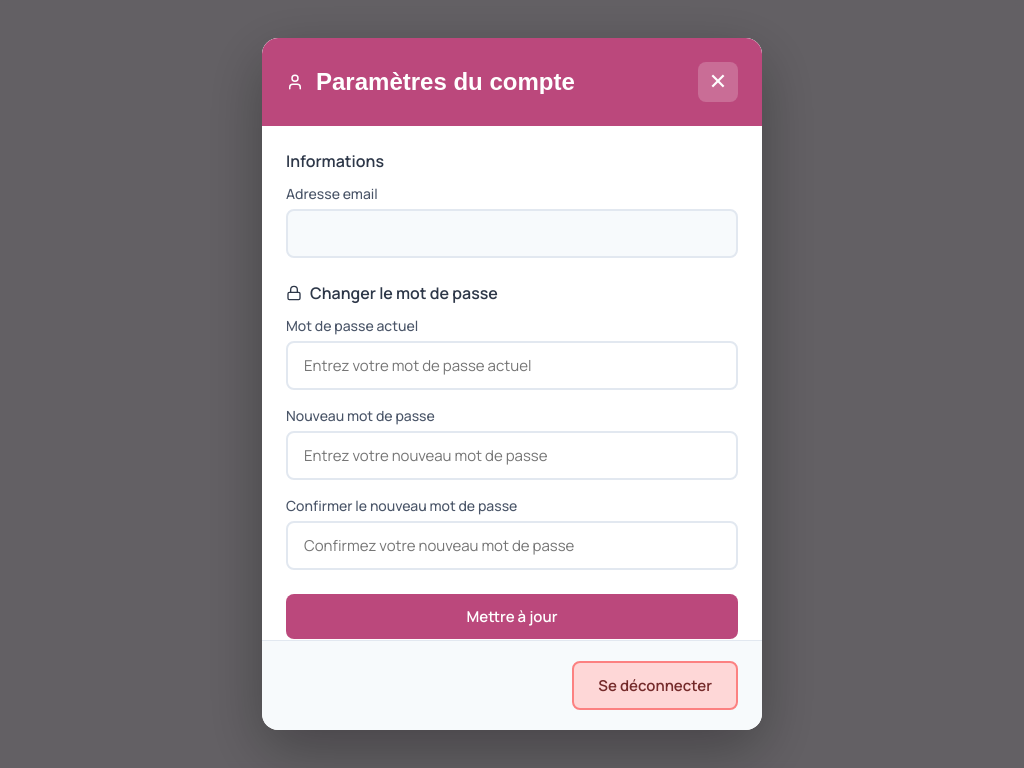
Test: AccountSettingsModal › affiche une erreur si les nouveaux mots de passe ne correspondent pas
Step 1. Type "oldpass" into the password field labelled "Mot de passe actuel" → (512, 366), box x1=286 y1=341 x2=738 y2=390
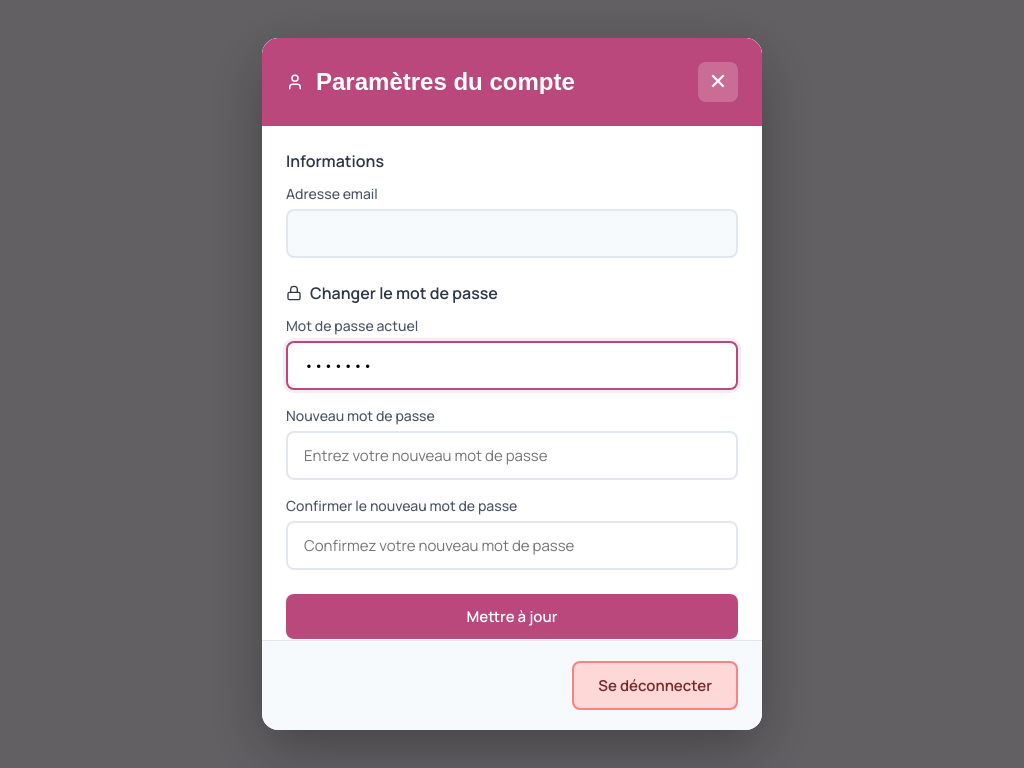
Step 2. Type "Newpass1" into the password field labelled "Nouveau mot de passe" → (512, 456), box x1=286 y1=431 x2=738 y2=480
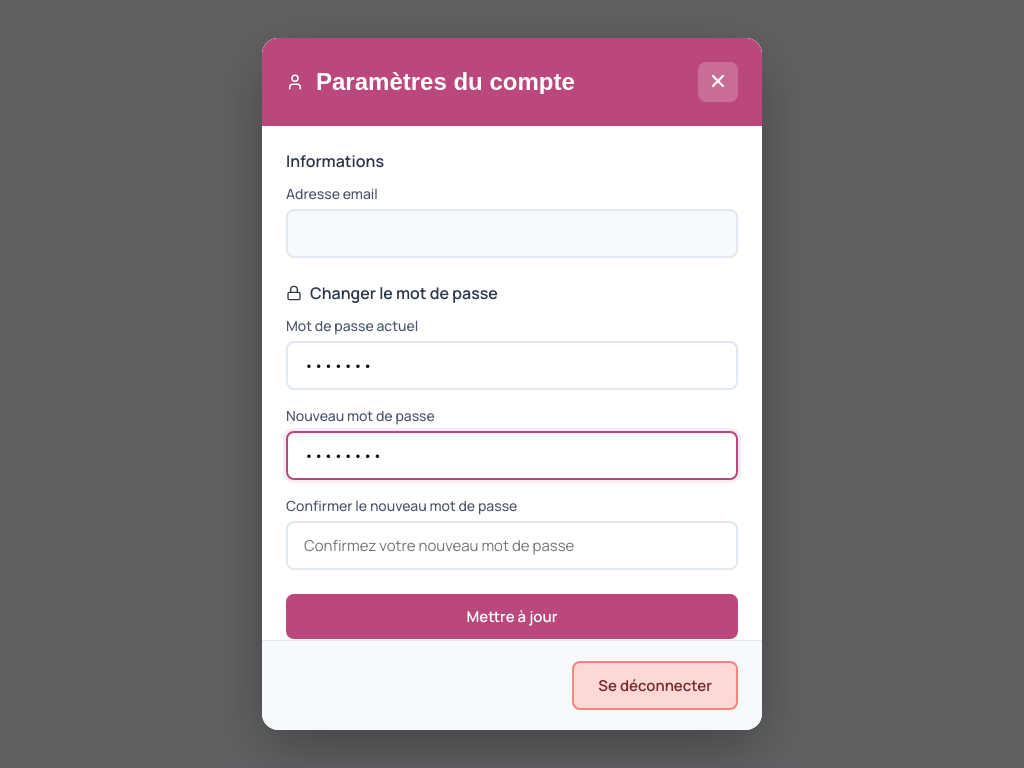
Step 3. Type "Newpass2" into the password field labelled "Confirmer le nouveau mot de passe" → (512, 546), box x1=286 y1=521 x2=738 y2=570
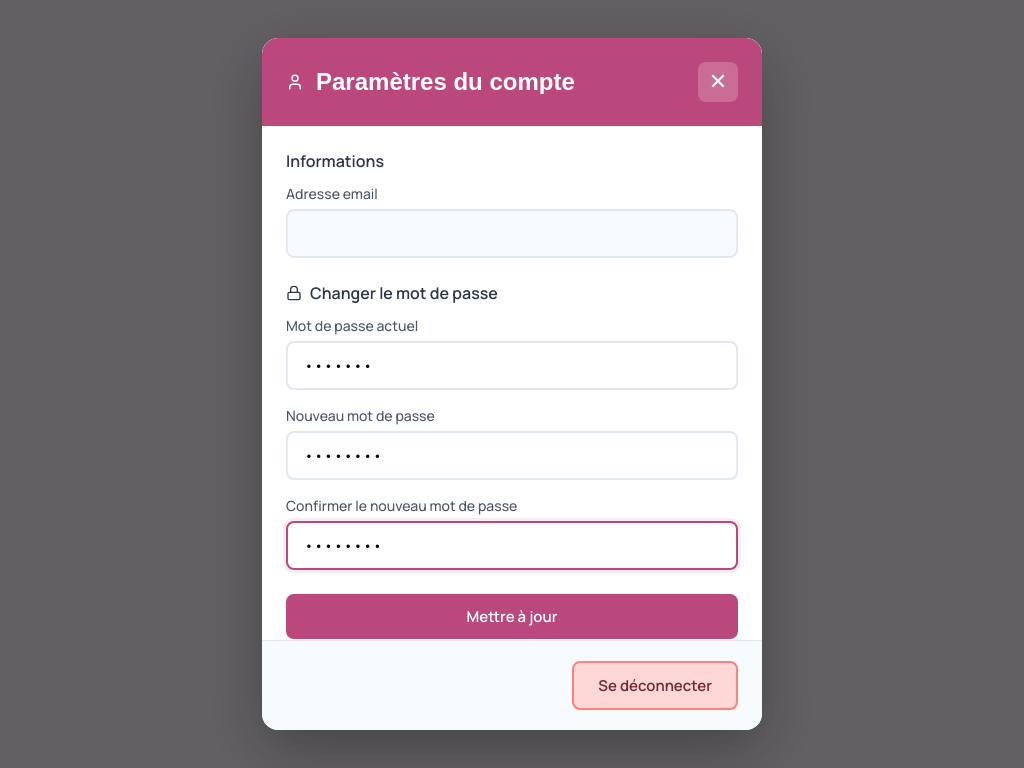
Step 4. Click the button "Mettre à jour" → (512, 617), box x1=286 y1=594 x2=738 y2=639
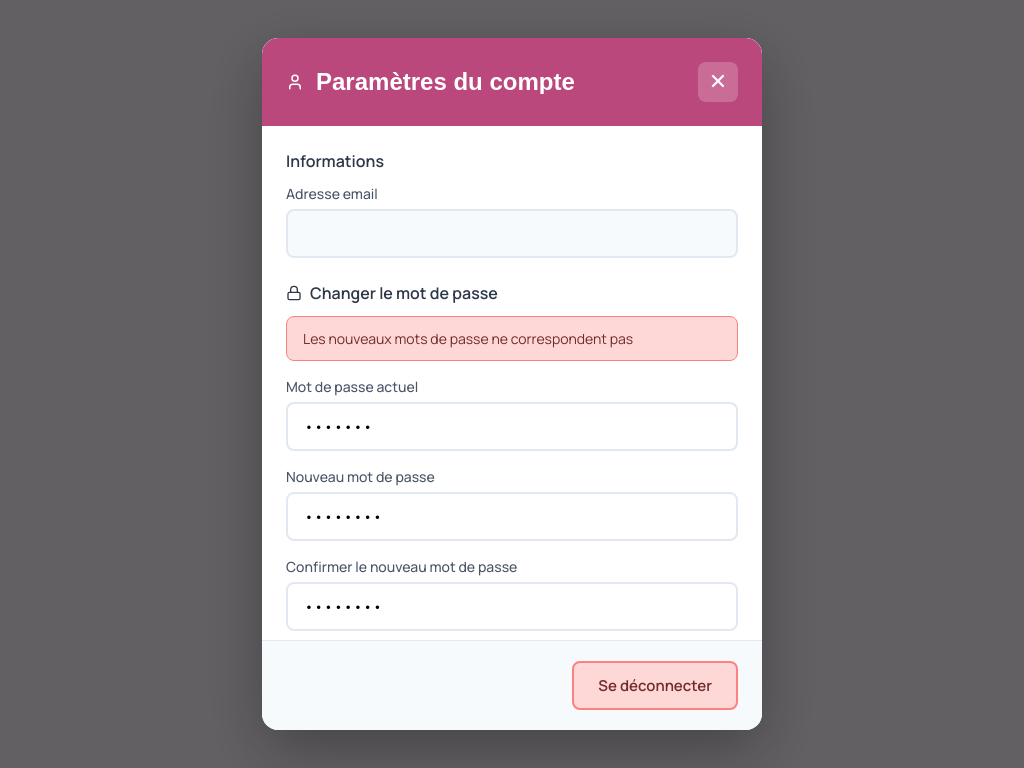
Expected: the text "Les nouveaux mots de passe ne correspondent pas" is shown, x1=286 y1=316 x2=738 y2=361
